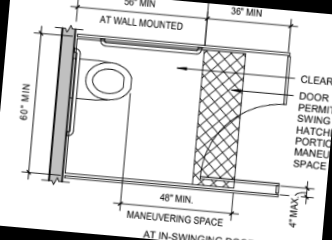door: (199, 96, 288, 189)
